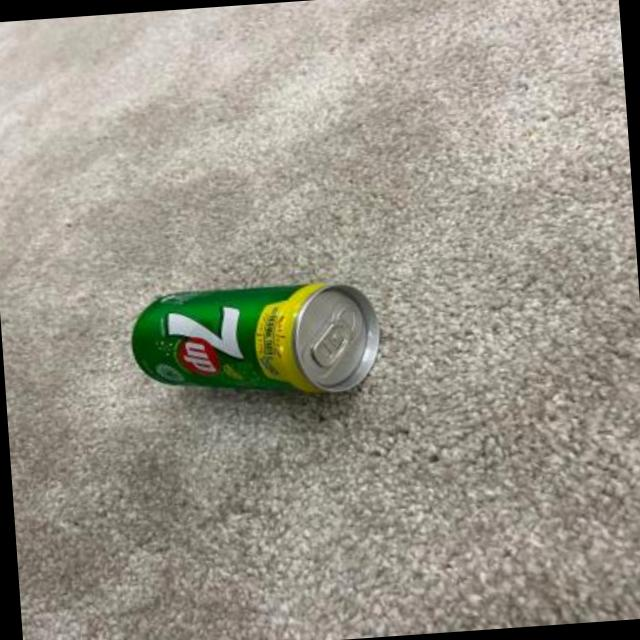metal: (129, 286, 375, 395)
